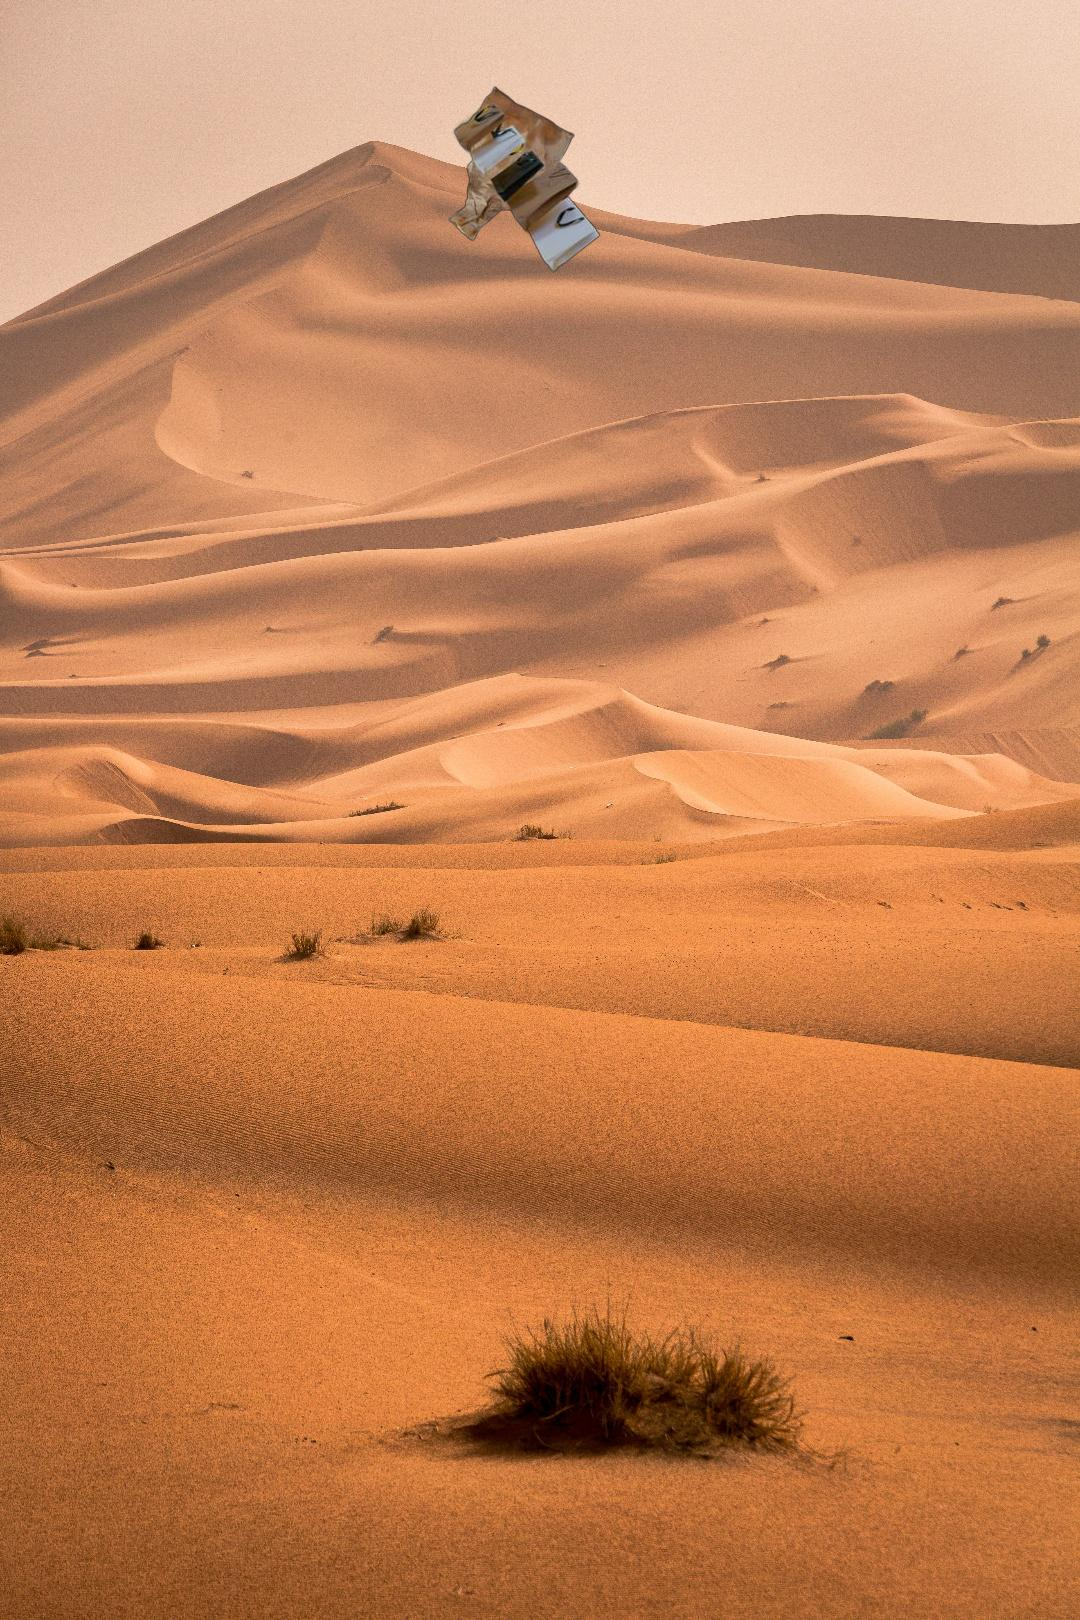paper-bag: (447, 84, 603, 274)
